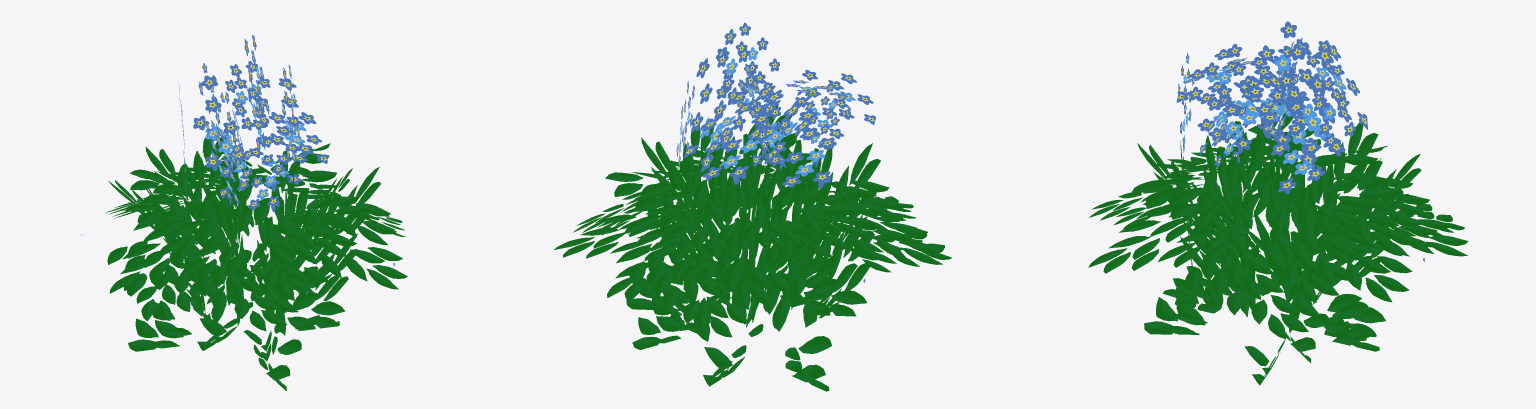
The model's file is PT_Forgetmenot_01.fbx.
The picture shows the model from 3 angles, left to right: view 1: azimuth 30°, elevation 25°; view 2: azimuth 150°, elevation 25°; view 3: azimuth 270°, elevation 25°; orthographic projection. The views are drawn at different scales.
Visible parts, largest first — view 1: PT_Forgetmenot_01_LOD0; view 2: PT_Forgetmenot_01_LOD0; view 3: PT_Forgetmenot_01_LOD0.
Boxes of the visible parts, x1,y1,x2,y2 form: PT_Forgetmenot_01_LOD0: [81, 35, 407, 390]; PT_Forgetmenot_01_LOD0: [554, 22, 951, 391]; PT_Forgetmenot_01_LOD0: [1088, 21, 1468, 385].
Size of what is drawn, in the model's own units: 99.75 by 78.02 by 105.
